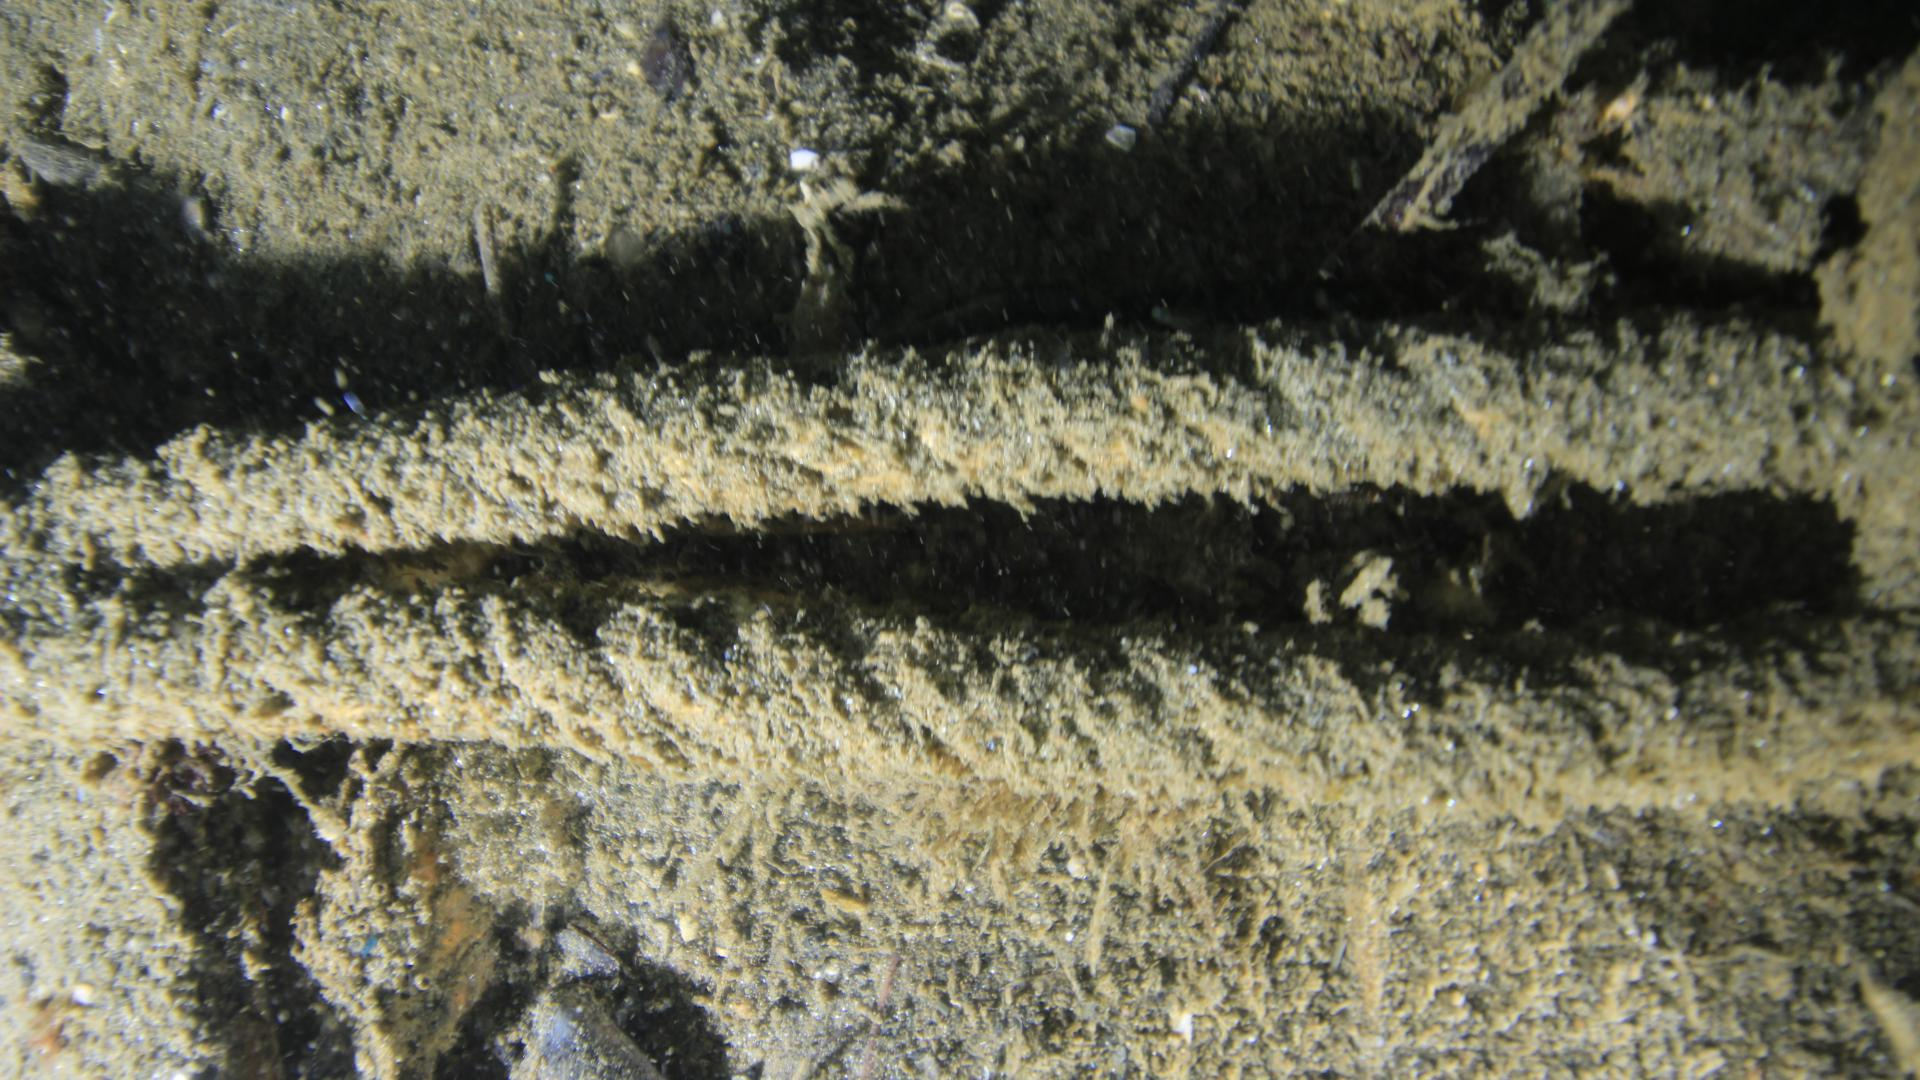bundle of ropes: (0, 326, 1920, 799)
